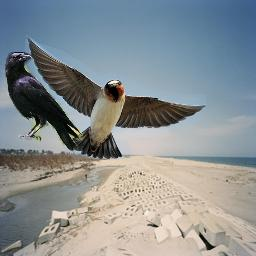Crow: (5, 52, 83, 152)
Swallow: (25, 35, 206, 159)
